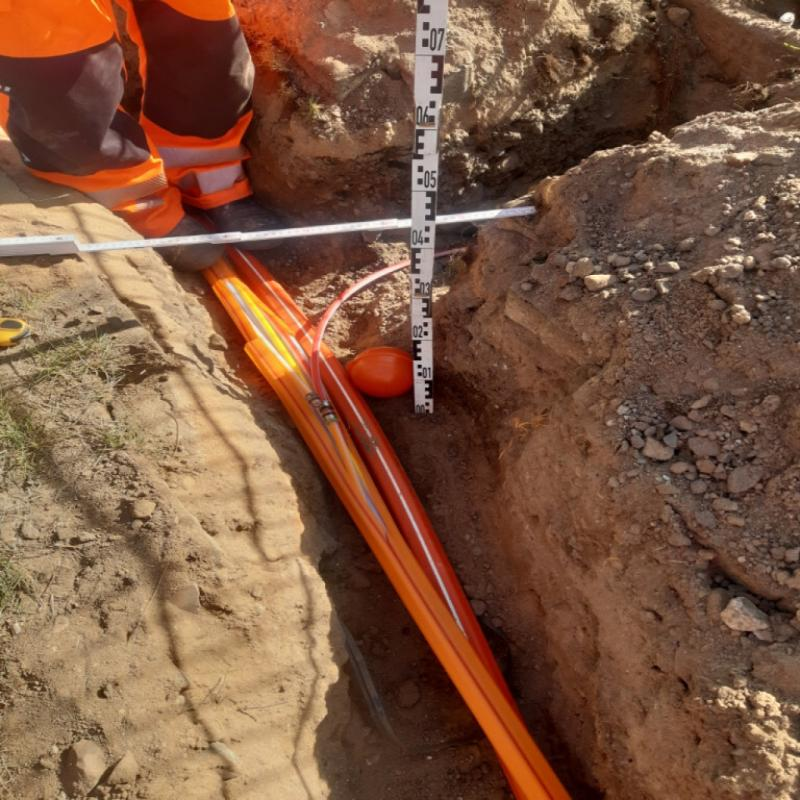Kugelmarker: (345, 348, 414, 396)
Orang-Speednetrohrchen: (210, 276, 568, 800), (239, 261, 519, 718)
